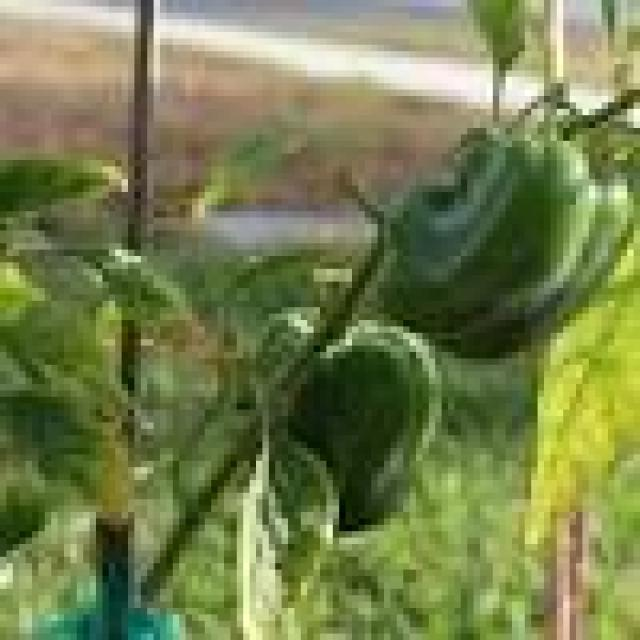Nutirtion_deficie: (281, 316, 489, 554), (402, 184, 619, 350)
